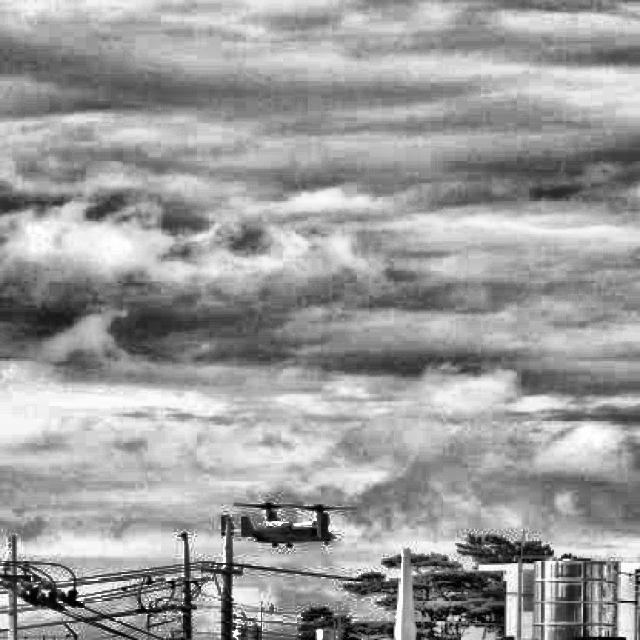V22: (220, 502, 358, 548)
